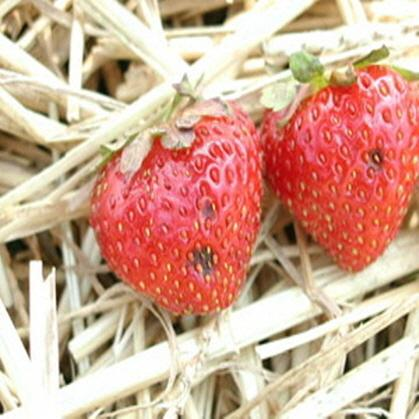Anthracnose Fruit Rot: (185, 199, 225, 280), (363, 145, 390, 171)
